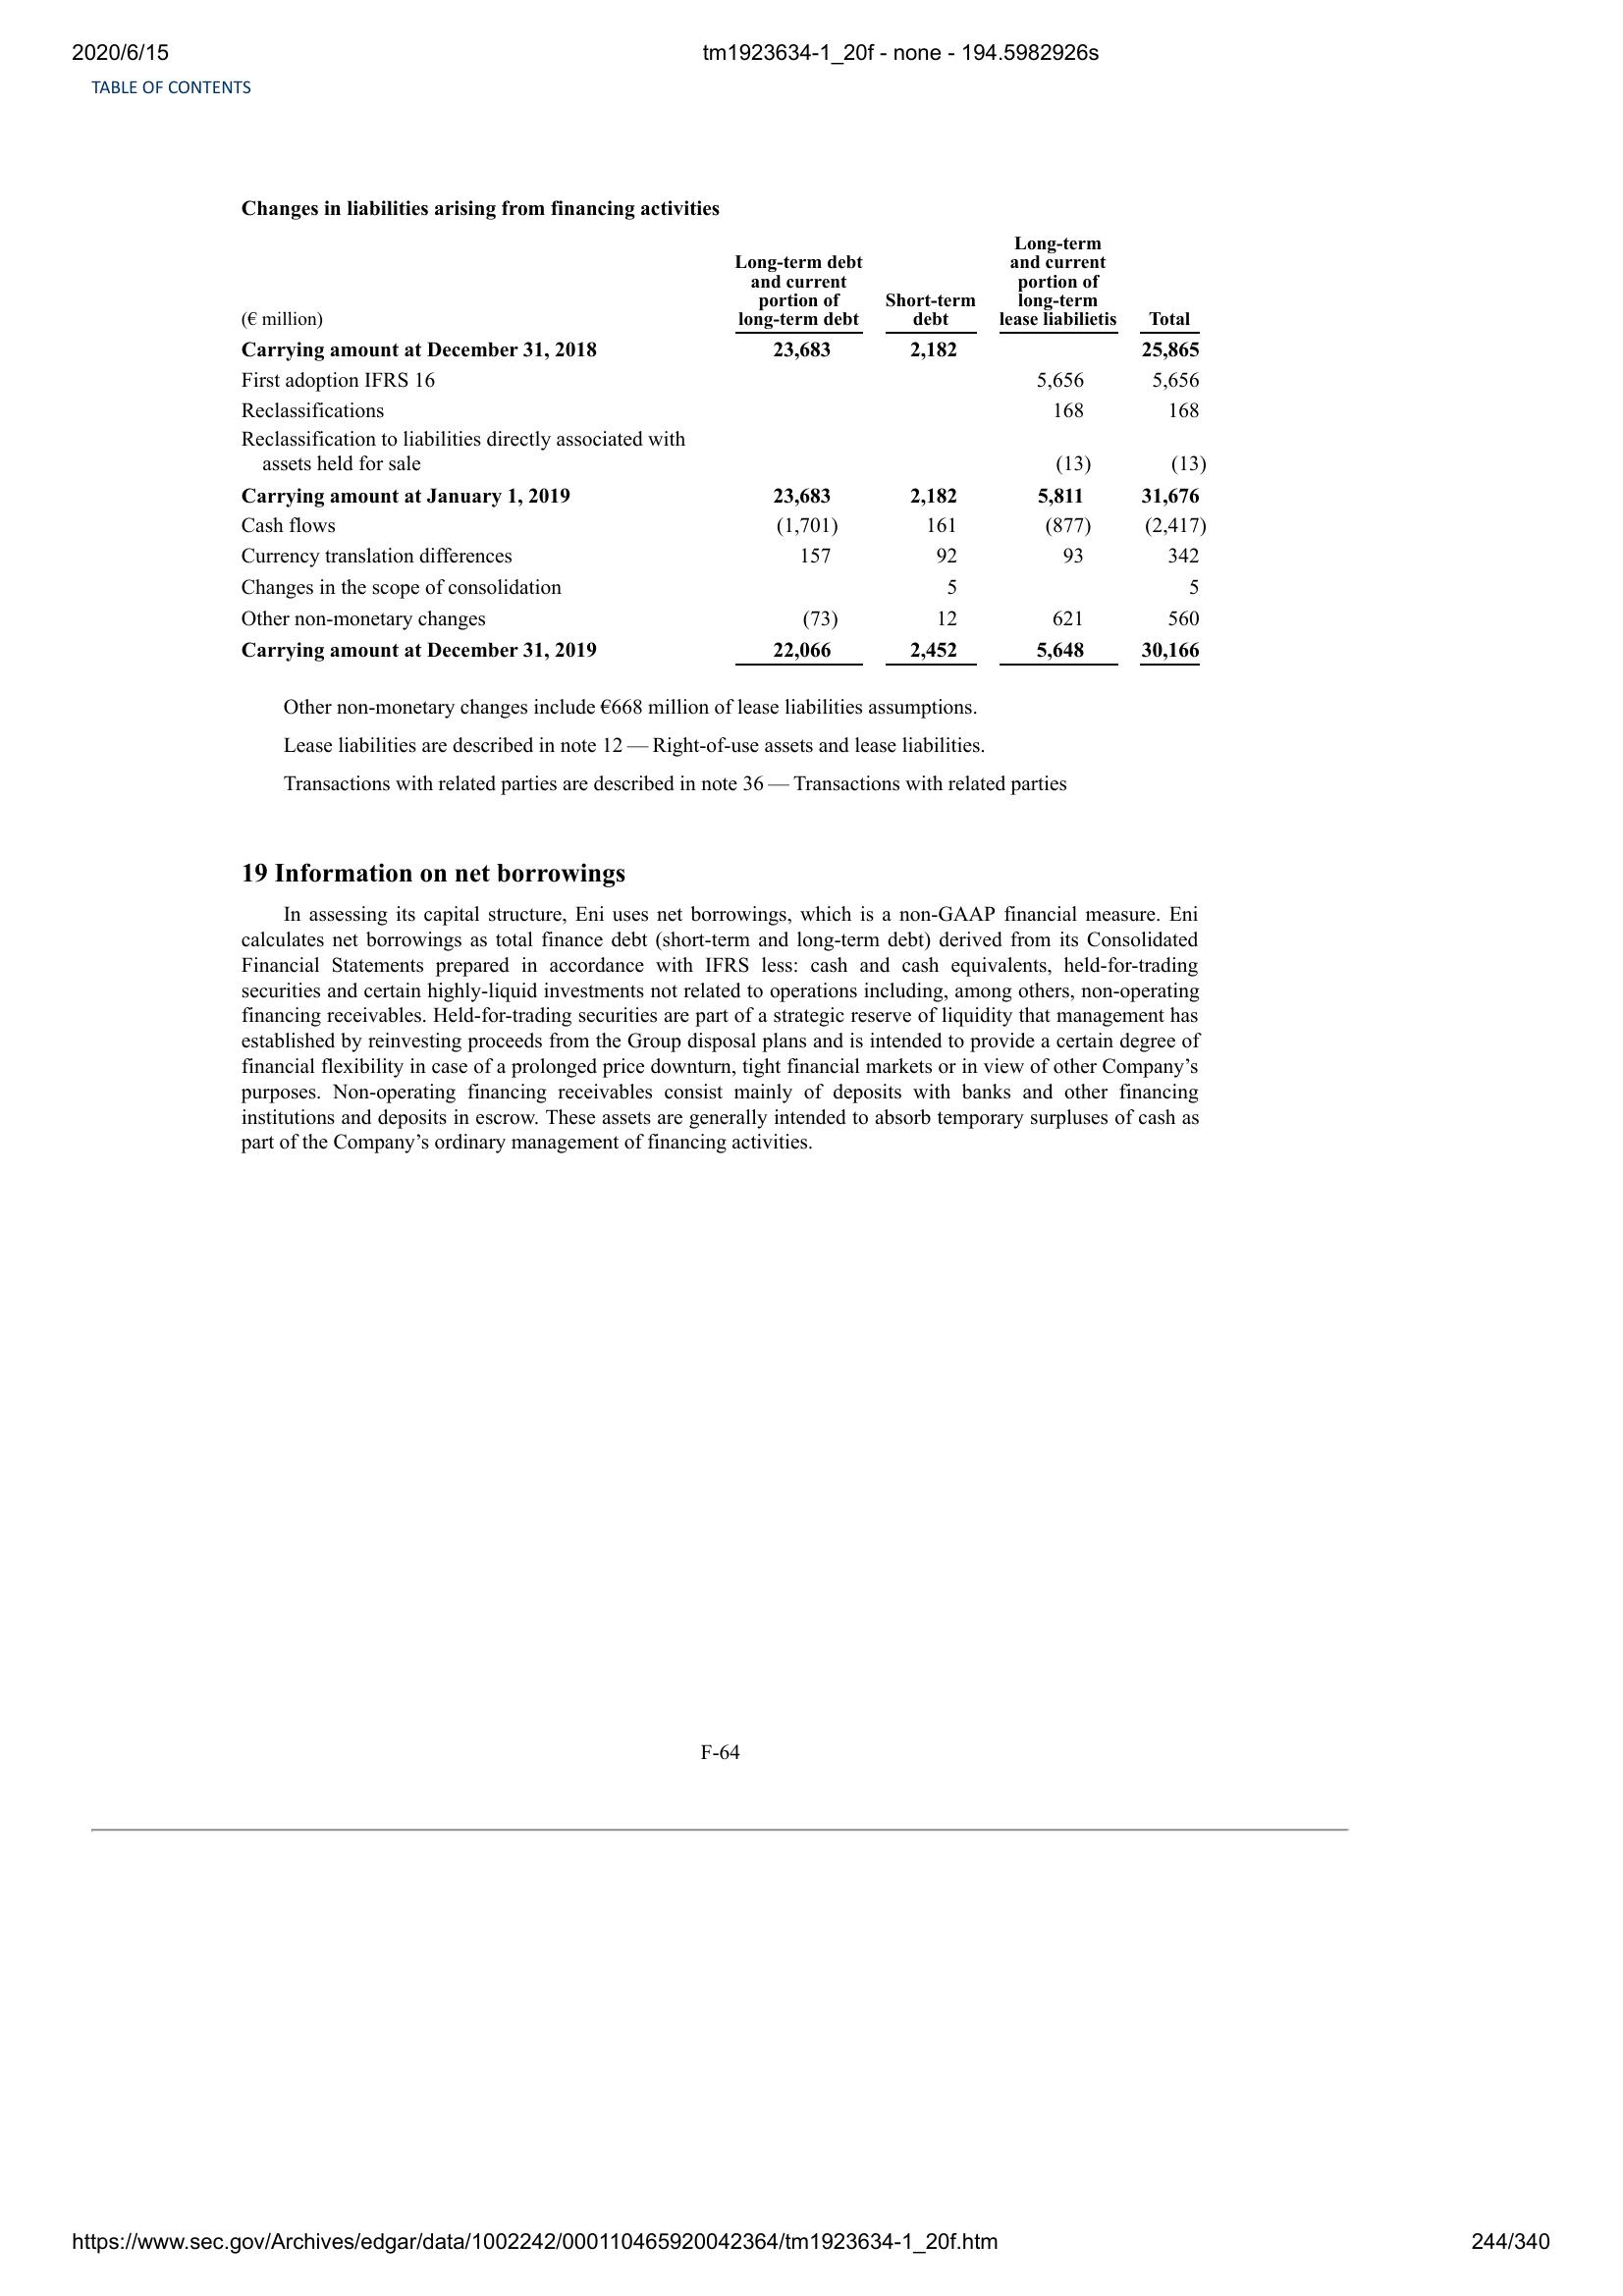table: (239, 225, 1203, 674)
